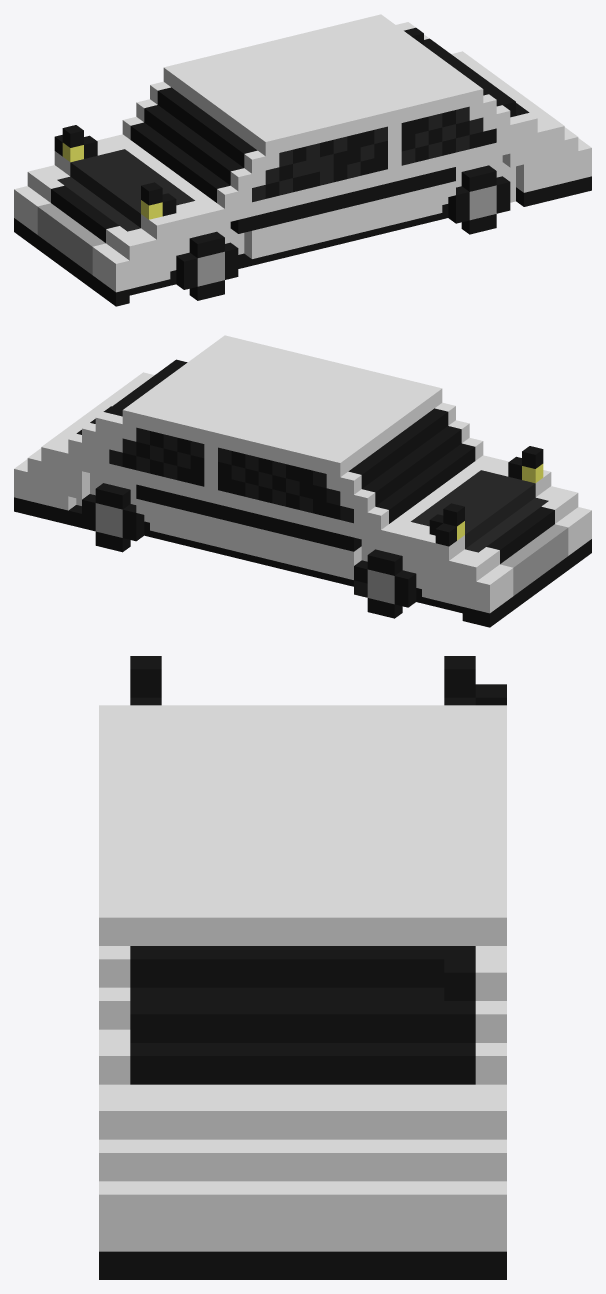
File: car_02.glb
3 renders of one model, top to bottom at view 1: azimuth 30°, elevation 25°; view 2: azimuth 150°, elevation 25°; view 3: azimuth 270°, elevation 25°, orthographic. The views are drawn at different scales.
Visible parts, largest first — view 1: ObjObject; view 2: ObjObject; view 3: ObjObject.
Boxes of the visible parts, <box> form: ObjObject: <box>14,14,591,306</box>; ObjObject: <box>14,335,591,627</box>; ObjObject: <box>99,656,506,1279</box>.
Bounding box in the file's own units: 3.5 × 1 × 1.3.
1 material, 1 textured.
